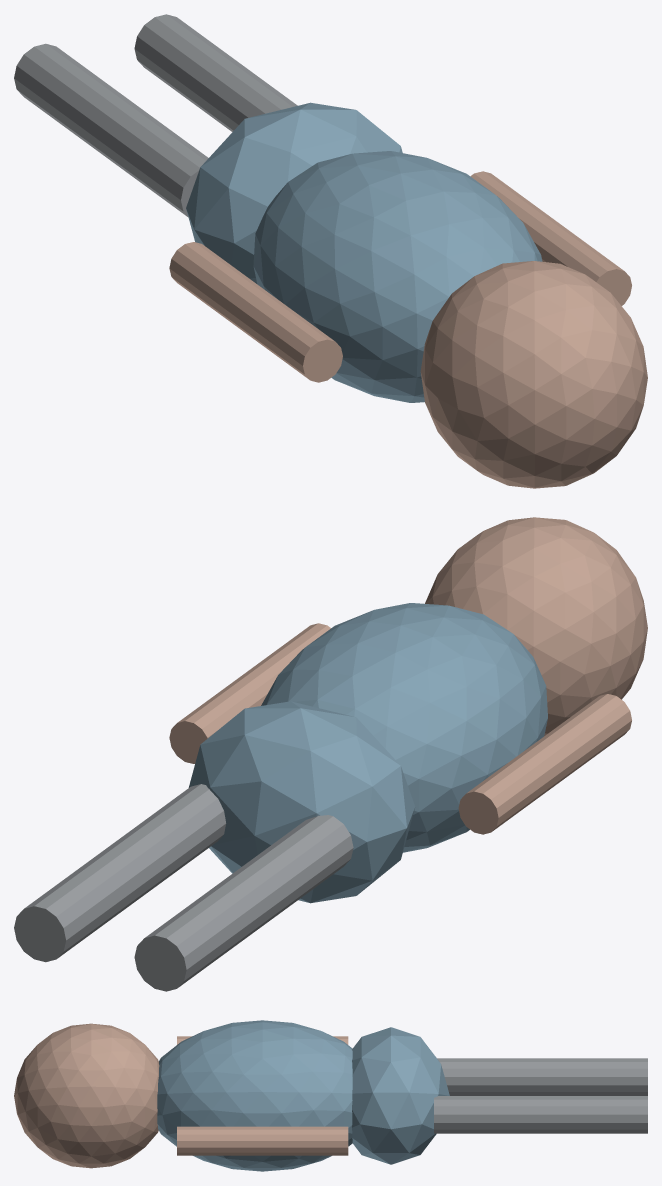
File: child-medium.glb
The picture shows the model from 3 angles, top to bottom: view 1: azimuth 30°, elevation 25°; view 2: azimuth 150°, elevation 25°; view 3: azimuth 270°, elevation 25°; orthographic projection. The views are drawn at different scales.
Visible parts, largest first — view 1: torso, head, pelvis, left_leg, left_arm, right_leg, right_arm; view 2: torso, pelvis, head, left_leg, right_leg, left_arm, right_arm; view 3: torso, head, pelvis, right_leg, left_leg, right_arm.
Boxes of the visible parts, left/top/right/bottom form: torso: left=253, top=151, right=542, bottom=402; head: left=420, top=261, right=647, bottom=488; pelvis: left=186, top=102, right=402, bottom=283; left_leg: left=14, top=43, right=208, bottom=217; left_arm: left=169, top=242, right=342, bottom=382; right_leg: left=134, top=14, right=297, bottom=131; right_arm: left=470, top=171, right=631, bottom=305; torso: left=261, top=603, right=547, bottom=852; pelvis: left=188, top=701, right=415, bottom=903; head: left=425, top=517, right=647, bottom=735; left_leg: left=134, top=815, right=353, bottom=991; right_leg: left=14, top=784, right=226, bottom=962; left_arm: left=458, top=694, right=631, bottom=834; right_arm: left=169, top=623, right=330, bottom=763; torso: left=157, top=1020, right=352, bottom=1171; head: left=14, top=1023, right=159, bottom=1168; pelvis: left=352, top=1027, right=449, bottom=1164; right_leg: left=434, top=1096, right=647, bottom=1133; left_leg: left=437, top=1058, right=647, bottom=1095; right_arm: left=177, top=1126, right=348, bottom=1155.
Size of the model in its own units: 0.82 by 0.4928 by 2.13.
